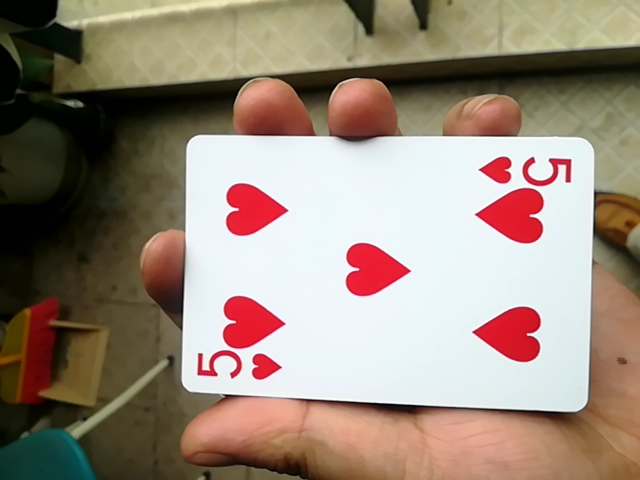hx 5: (161, 132, 588, 416)
